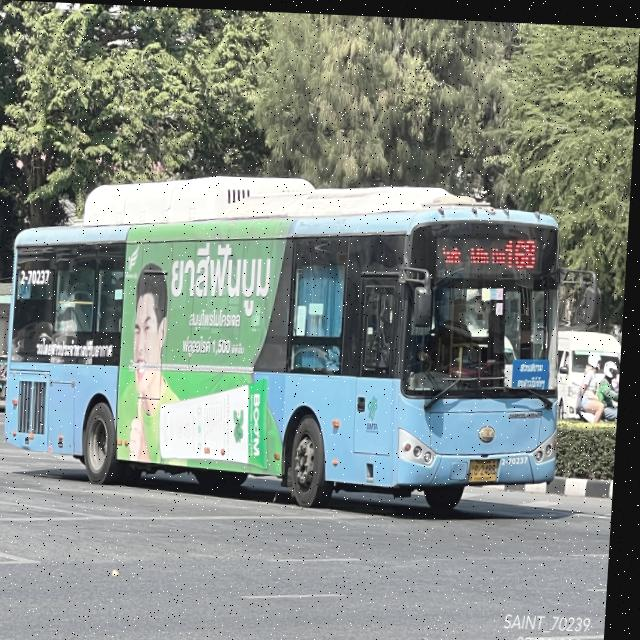BMTA-bus: (8, 175, 565, 508)
Bus Line Number: (508, 229, 544, 270)
Bus Side Number: (17, 263, 59, 293), (506, 449, 537, 465)
Destination Sign: (514, 351, 555, 384)
